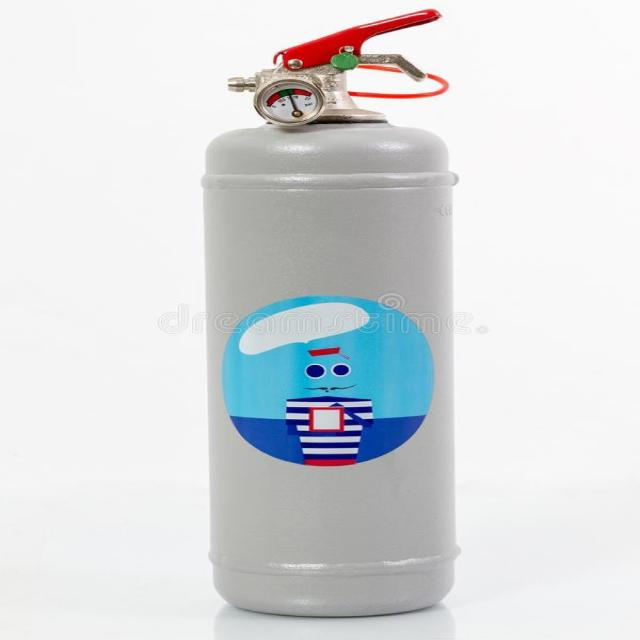fire_extinguisher: (190, 4, 473, 627)
